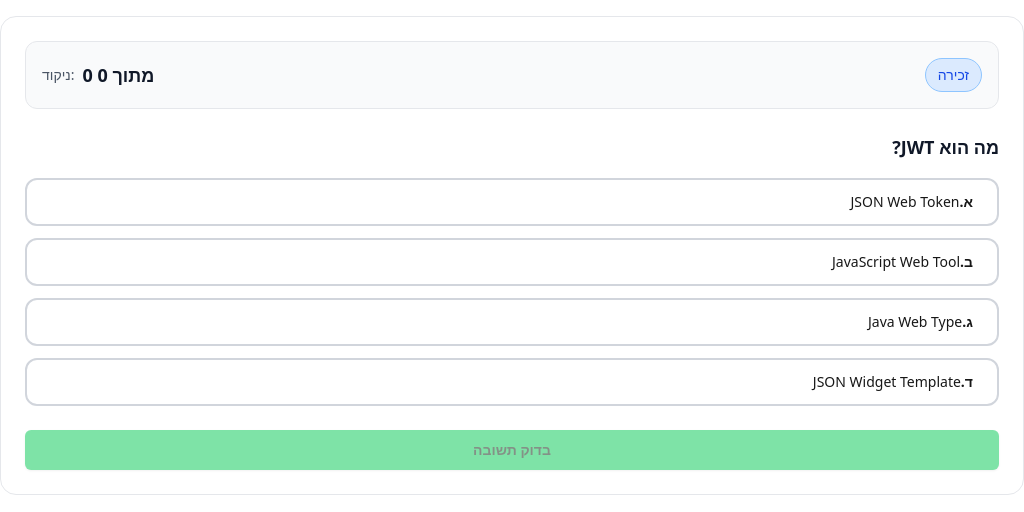
it: QuizPanel › question state › enables submit button after selecting an option
Click one of the option buttons
What coordinates should you click on to do the following:
click the button "א.JSON Web Token"
I would click on:
 (905, 202)
Its box is top-left (25, 178), bottom-right (999, 226).
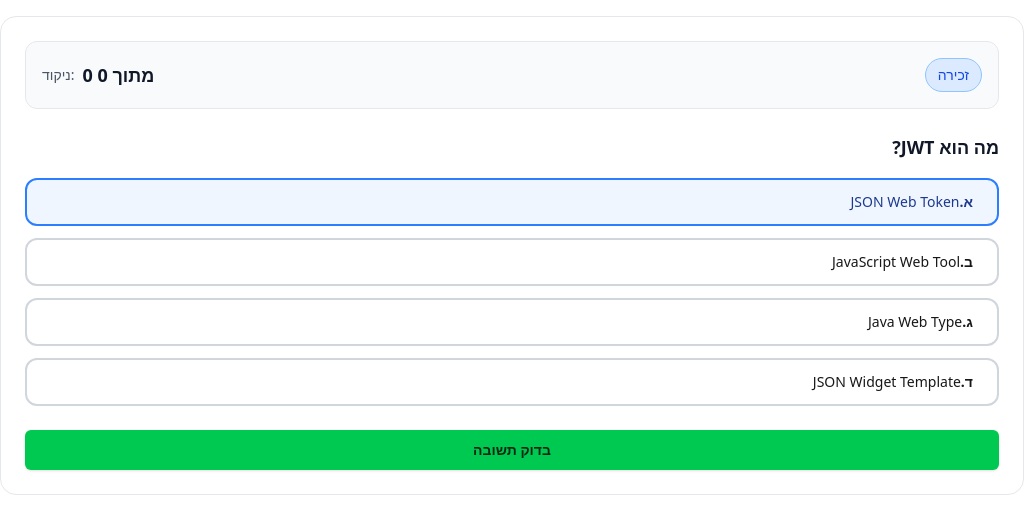
Expected: the button "בדוק תשובה" is enabled, top-left (25, 430), bottom-right (999, 470)
